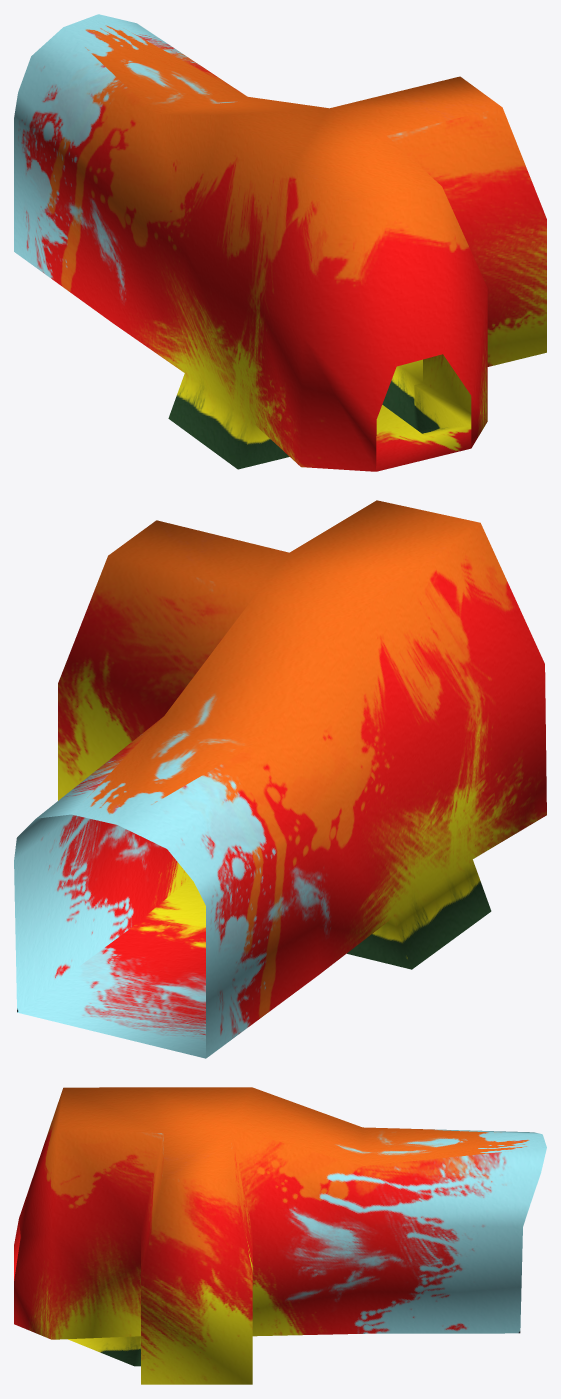
Rendered from Raum2Neu.fbx.
The picture shows the model from 3 angles, top to bottom: view 1: azimuth 30°, elevation 25°; view 2: azimuth 150°, elevation 25°; view 3: azimuth 270°, elevation 25°; orthographic projection. The views are drawn at different scales.
Parts seen in each view (by area): view 1: raum2; view 2: raum2; view 3: raum2.
Part boxes in pixels (x1,y1,x2,y2): raum2: [14, 14, 546, 471]; raum2: [14, 500, 546, 1058]; raum2: [14, 1087, 546, 1384].
Bounding box in the file's own units: 9.62 × 8.62 × 17.93.
